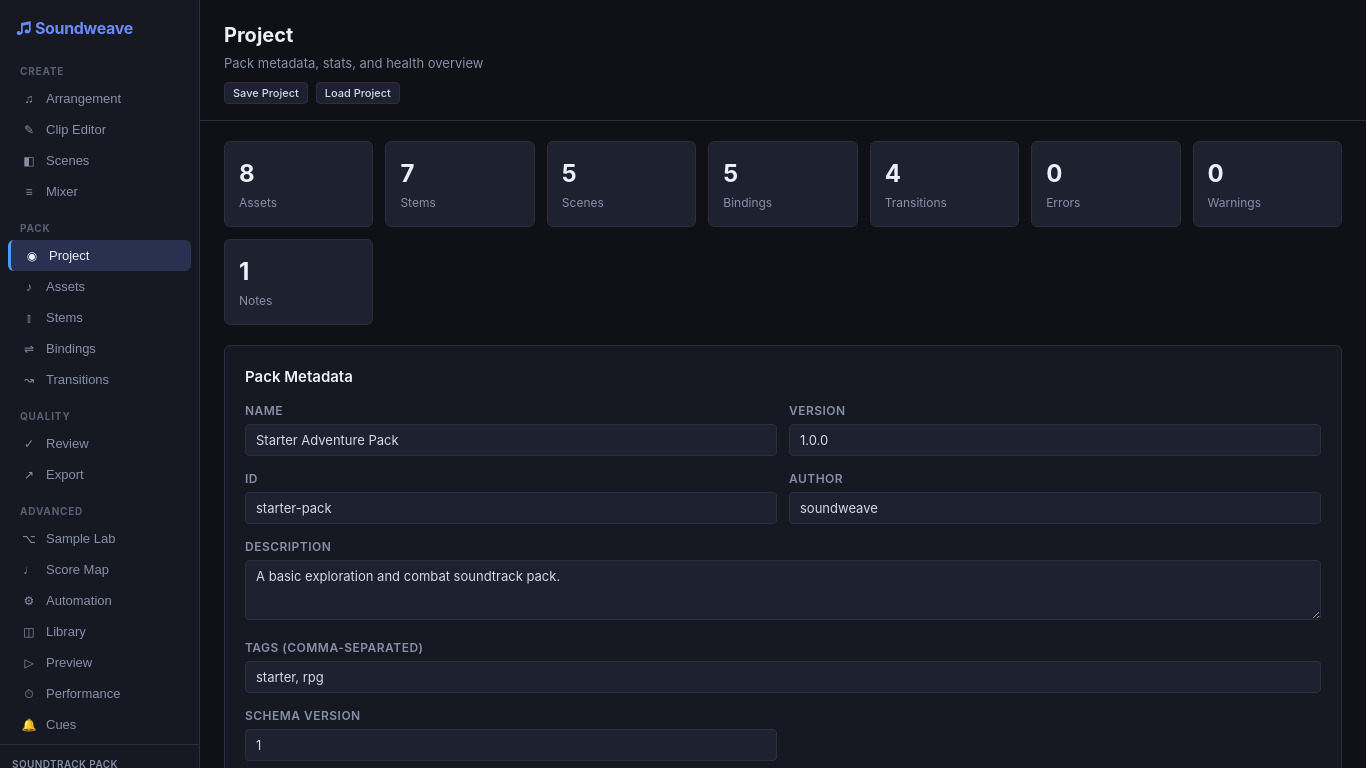
Test: Export screen — rendering › shows JSON preview
Click the button "↗ Export" at (100, 474), box [8,459,191,490]
(page scrolled)
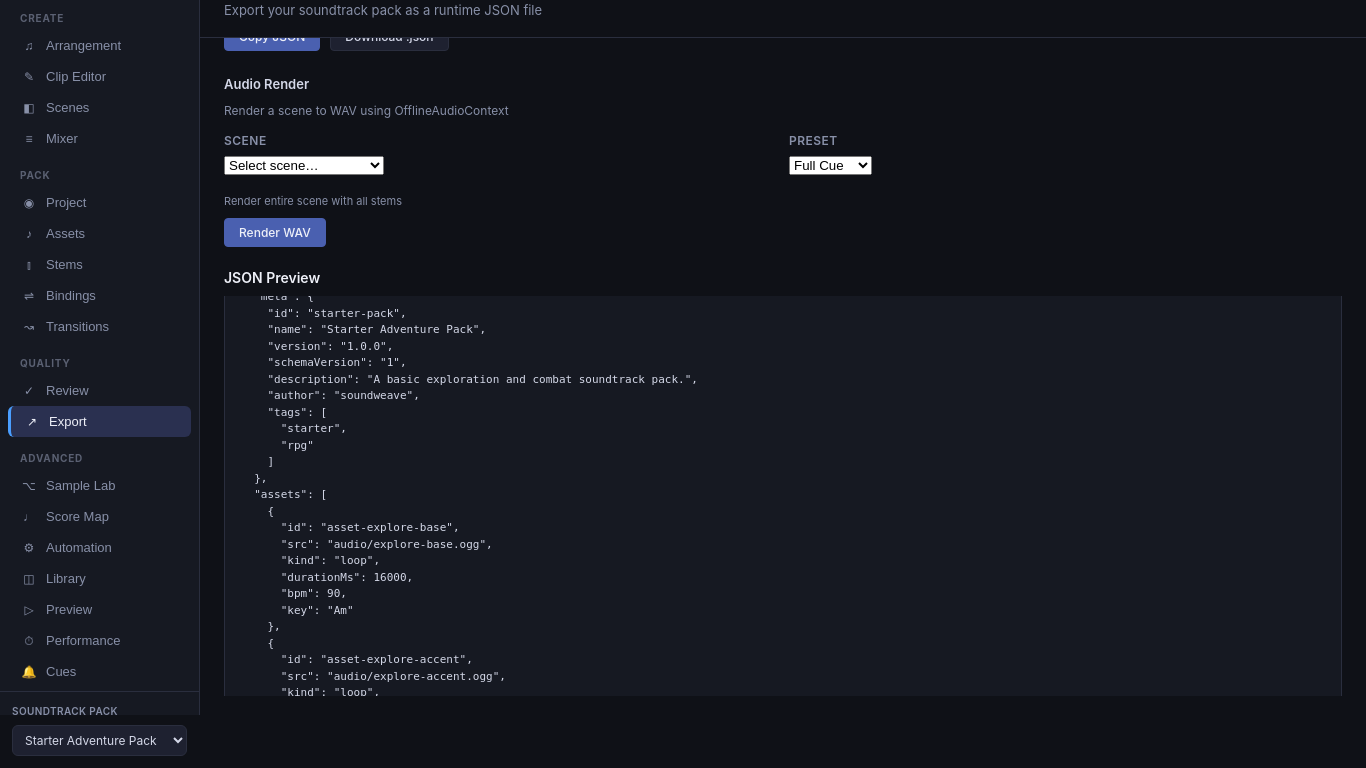
expect the heading "JSON Preview" is shown: met, box [224,268,320,286]
